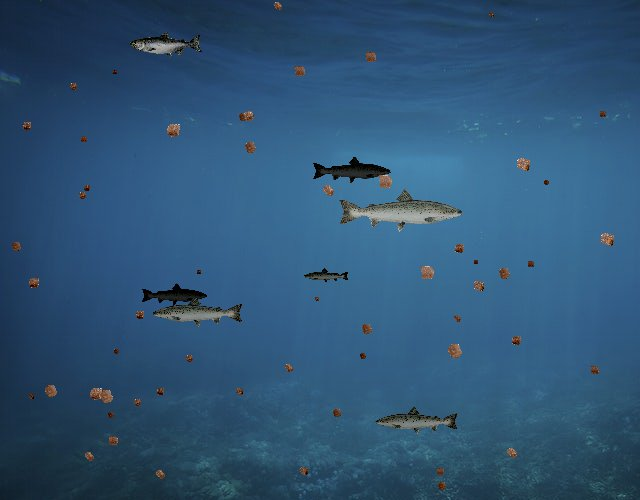Fish: (336, 187, 465, 233), (152, 295, 246, 329), (374, 405, 460, 436), (312, 155, 393, 184), (131, 32, 204, 58), (141, 282, 209, 306), (304, 268, 351, 285)
Pellet: (159, 116, 187, 144), (316, 179, 340, 203), (238, 136, 262, 160), (237, 105, 260, 128), (6, 236, 27, 257), (74, 188, 90, 204), (540, 176, 553, 189), (25, 391, 37, 403)
